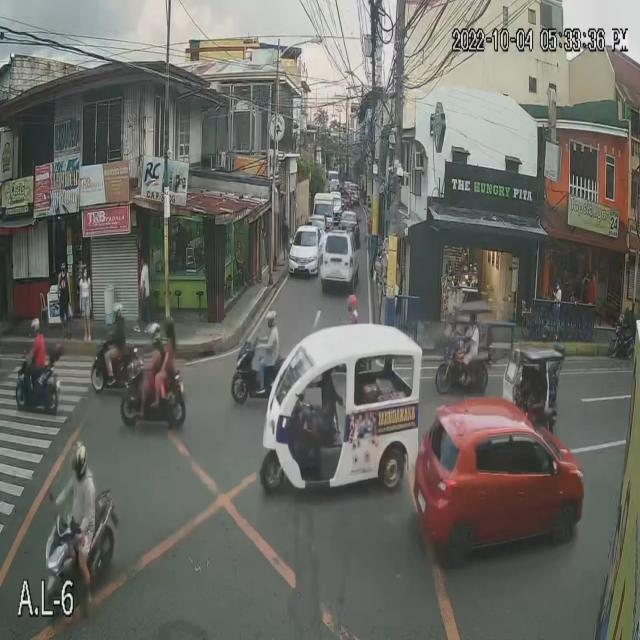Full-Faced: (70, 435, 88, 475), (342, 289, 362, 321), (162, 316, 179, 343), (264, 306, 279, 332), (25, 316, 40, 338), (113, 301, 127, 322)
Half-Faced: (147, 319, 161, 346)
